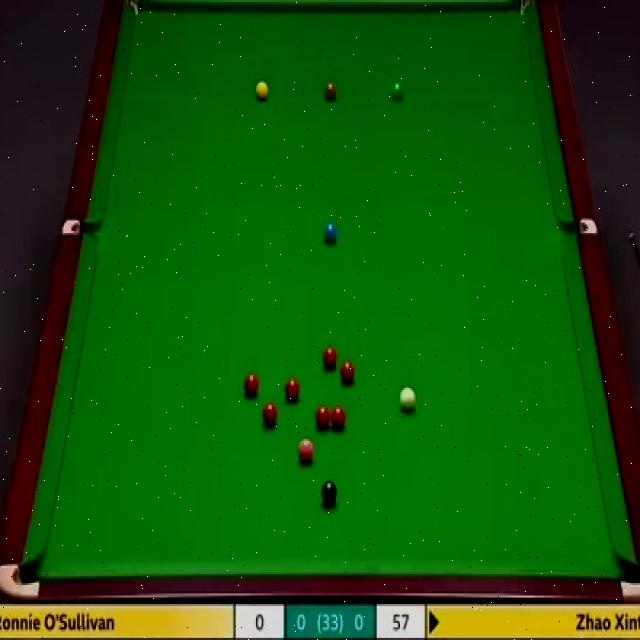black-ball: (321, 480, 338, 508)
blue-ball: (323, 222, 338, 242)
brown-ball: (323, 83, 338, 100)
green-ball: (392, 78, 406, 104)
pink-ball: (297, 434, 314, 464)
red-ball: (262, 401, 280, 430), (243, 372, 260, 400), (340, 358, 356, 386), (315, 405, 332, 431), (284, 378, 300, 402), (321, 347, 338, 368), (332, 405, 345, 431)
white-ball: (398, 387, 416, 412)
yellow-ball: (254, 80, 269, 102)
